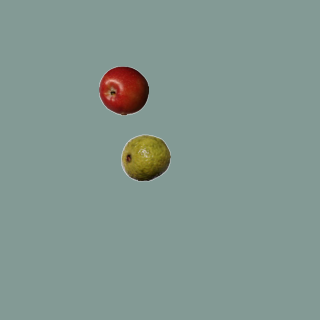Apple Braeburn: (98, 65, 148, 115)
Guava: (120, 132, 170, 182)
